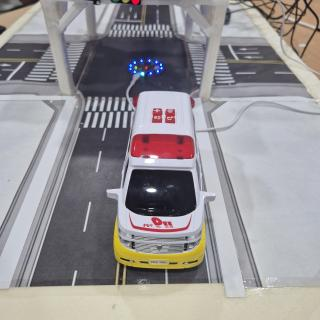Ambulance: (107, 91, 216, 269)
